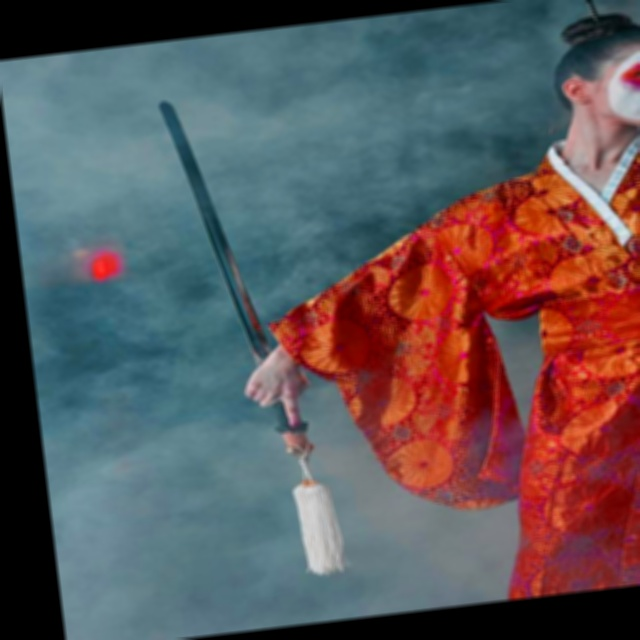Sharp-Object: (144, 80, 329, 483)
